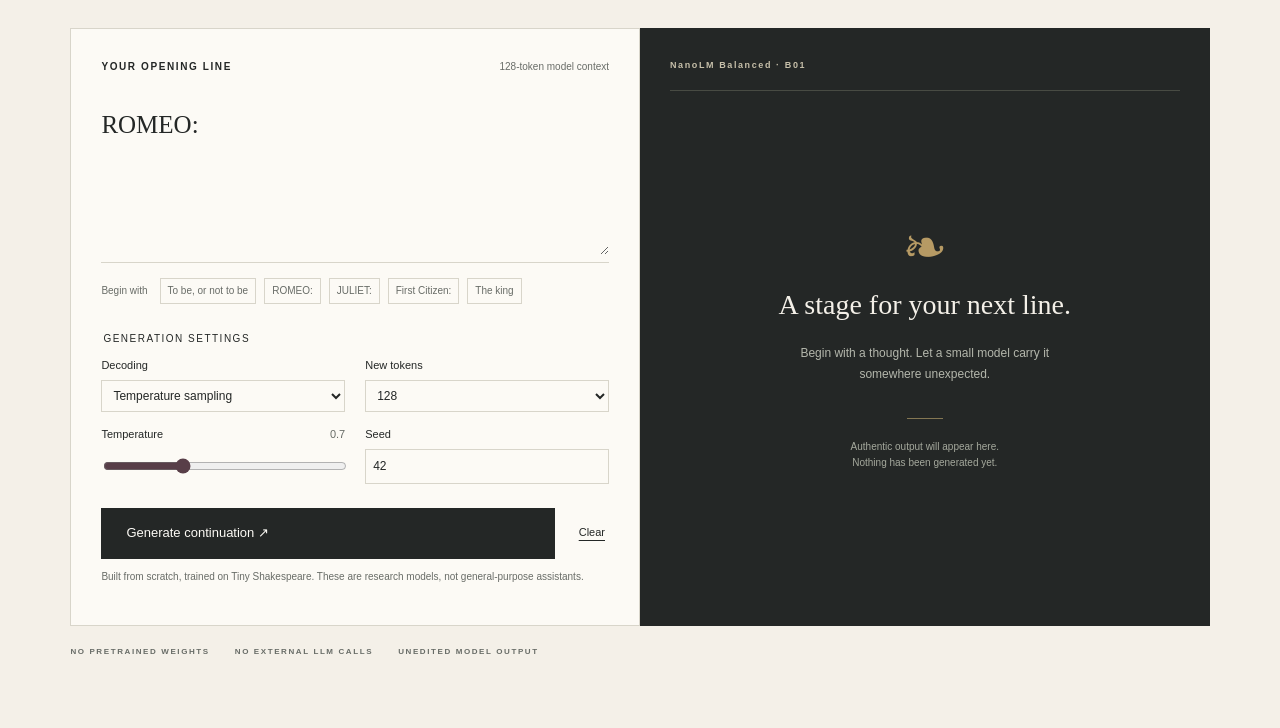
cancel aborts and reports its honest server limitation
The image size is (1280, 728).
(page scrolled)
Click the button "Generate continuation ↗": x=198, y=532 [101,508,555,559]
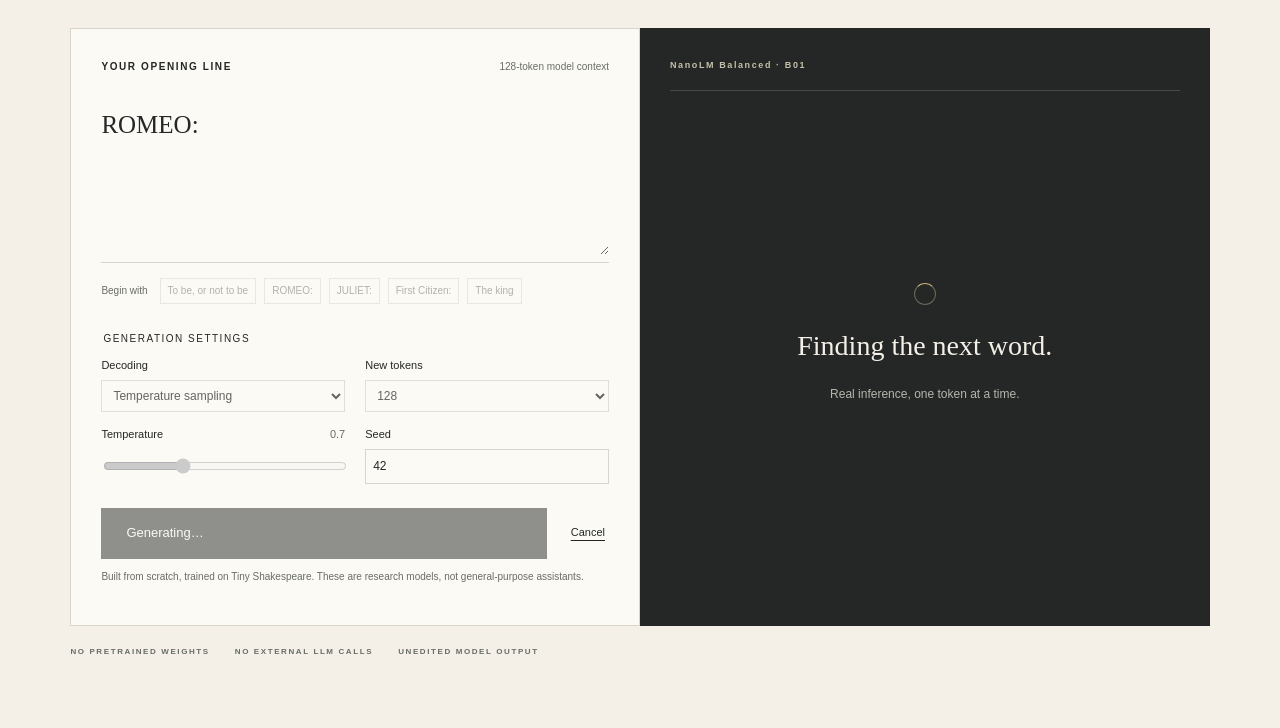
Click the button "Cancel": x=588, y=533 [567,520,609,546]
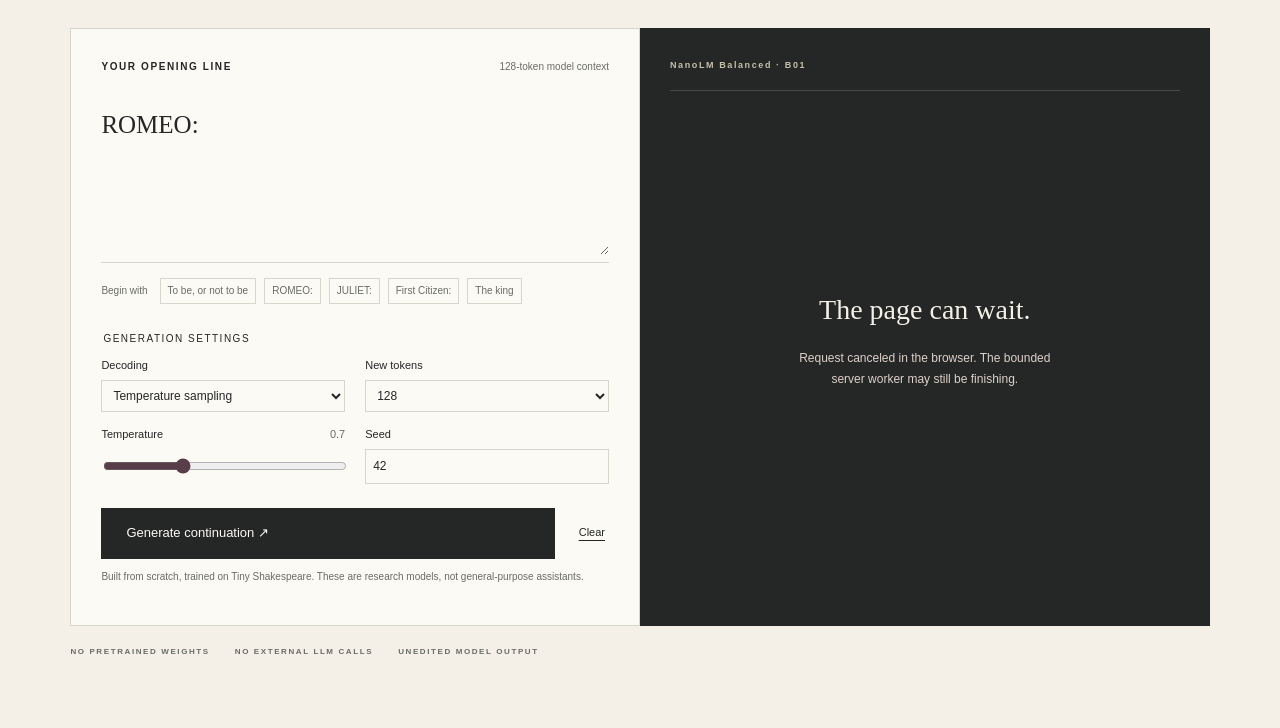
Expected: the text "bounded server worker may still be finishing" is shown, [799,351,1050,386]
